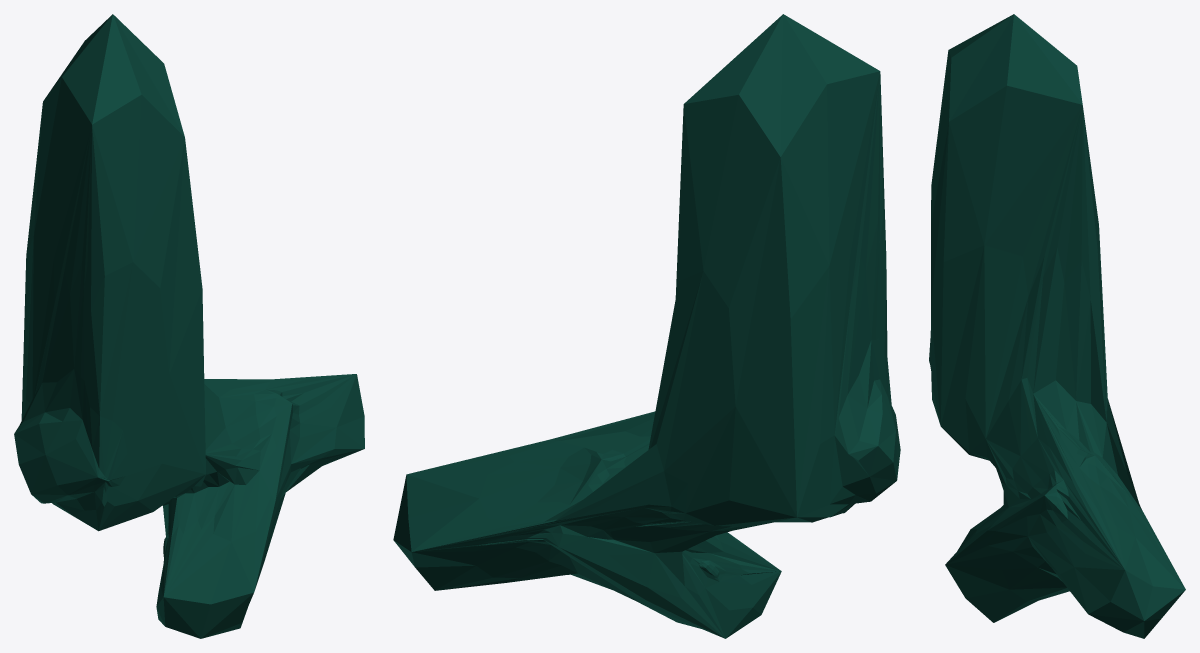
3 views of the same model, side by side, from view 1: azimuth 30°, elevation 25°; view 2: azimuth 150°, elevation 25°; view 3: azimuth 270°, elevation 25° (orthographic). The views are drawn at different scales.
Visible parts, largest first — view 1: 021_Cube.096; view 2: 021_Cube.096; view 3: 021_Cube.096.
Part boxes in pixels (bbox=[...]): 021_Cube.096: bbox=[14, 14, 364, 638]; 021_Cube.096: bbox=[393, 14, 900, 638]; 021_Cube.096: bbox=[929, 14, 1185, 638].
Bounding box in the file's own units: 11.01 × 16.27 × 6.77.
